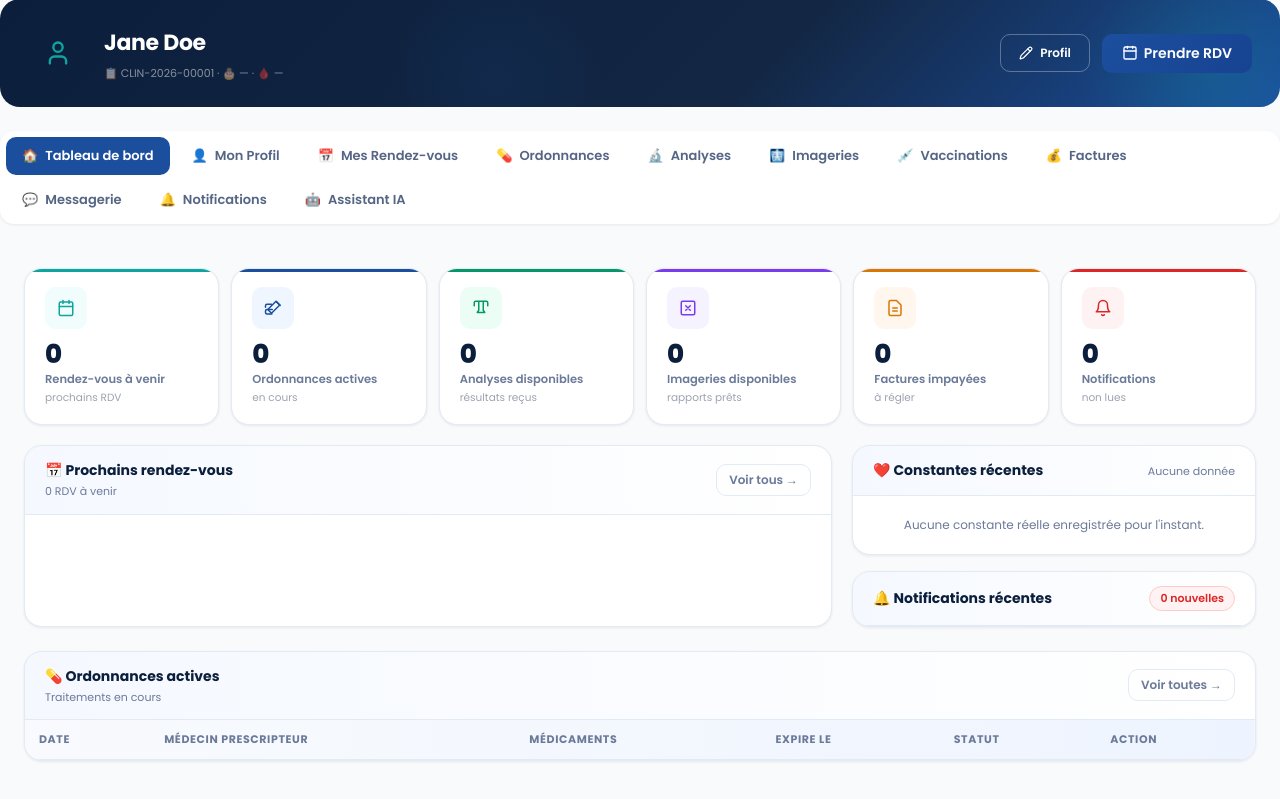
Test: "Mon dossier" affiche les vraies consultations, hospitalisations et documents reçus de l'API
Click the button "👤 Mon Profil": [236, 156] box [176, 137, 296, 174]
(page scrolled)
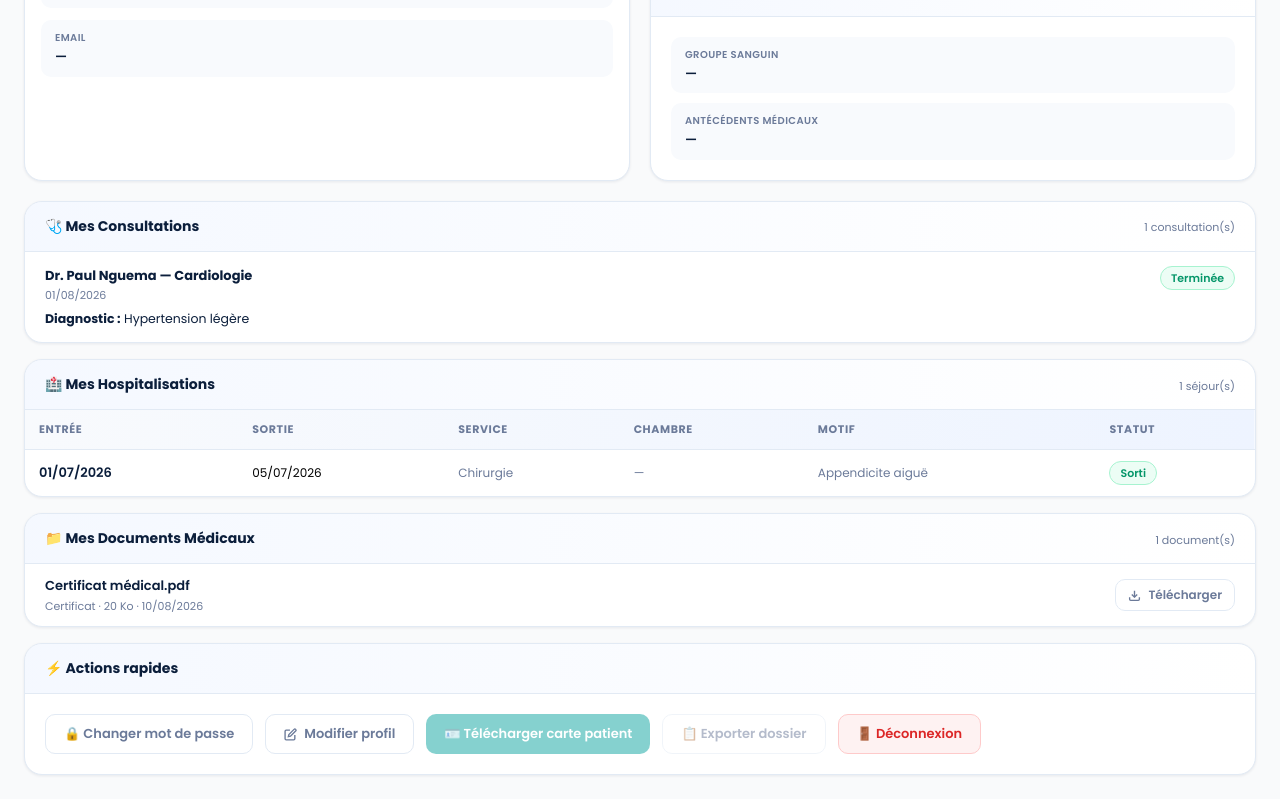
Now the text "Hypertension légère" is shown, box [124, 310, 249, 326]
Now the text "Dr. Paul Nguema — Cardiologie" is shown, box [45, 266, 252, 285]
Now the text "Appendicite aiguë" is shown, box [804, 449, 1095, 496]
